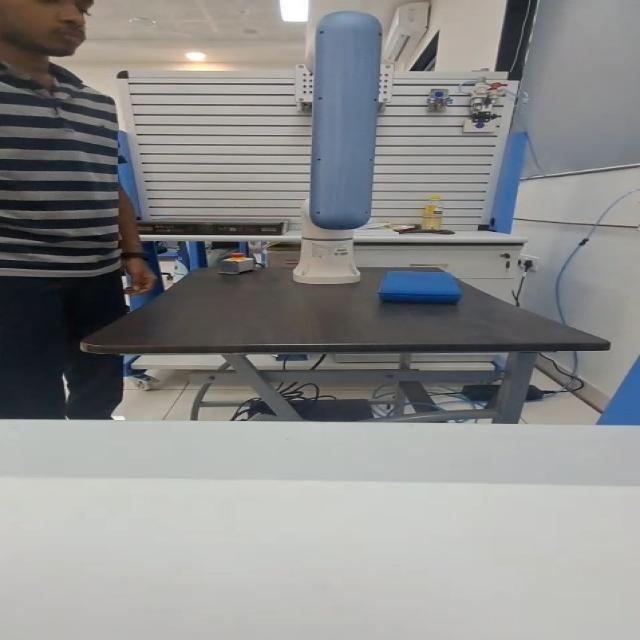top-surface: (386, 272, 454, 290)
